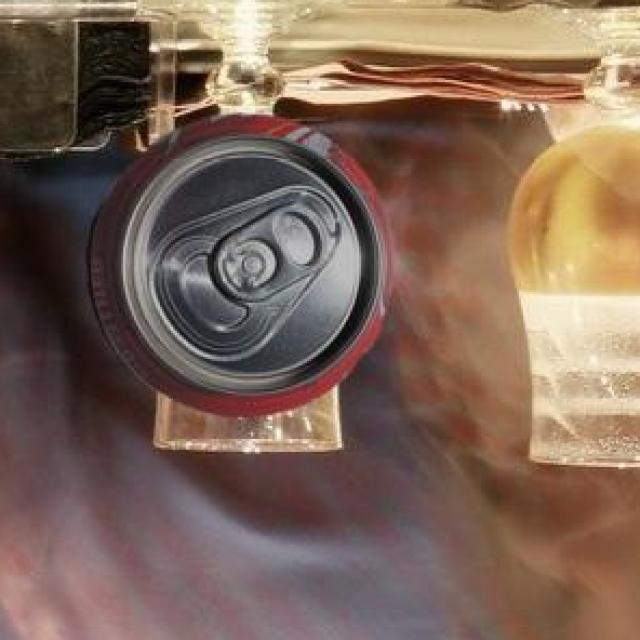logam: (83, 118, 390, 421)
